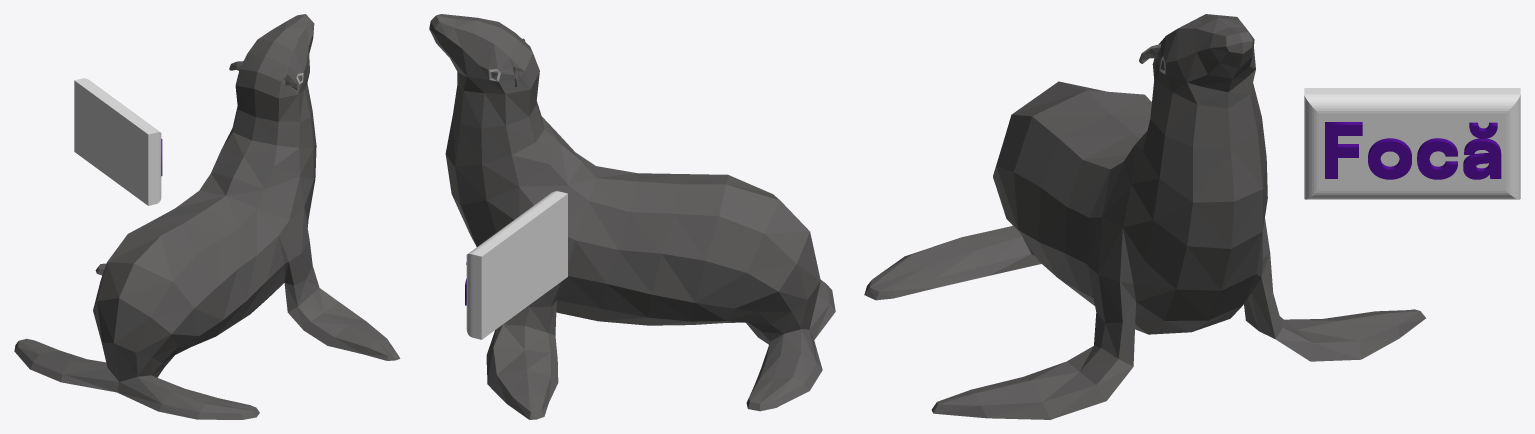
File: Foca.fbx
3 views of the same model, side by side, from view 1: azimuth 30°, elevation 25°; view 2: azimuth 150°, elevation 25°; view 3: azimuth 270°, elevation 25° (orthographic). The views are drawn at different scales.
Parts seen in each view (by area): view 1: SeaLion.006, Cube.008; view 2: SeaLion.006, Cube.008; view 3: SeaLion.006, Cube.008, Text.008.
Part boxes in pixels (x1,y1,x2,y2): SeaLion.006: (14,14,400,419); Cube.008: (74,78,161,205); SeaLion.006: (429,14,835,419); Cube.008: (466,191,567,339); SeaLion.006: (864,14,1425,419); Cube.008: (1304,88,1520,199); Text.008: (1325,122,1501,179).
Bounding box in the file's own units: 3.99 × 3.35 × 5.12.
